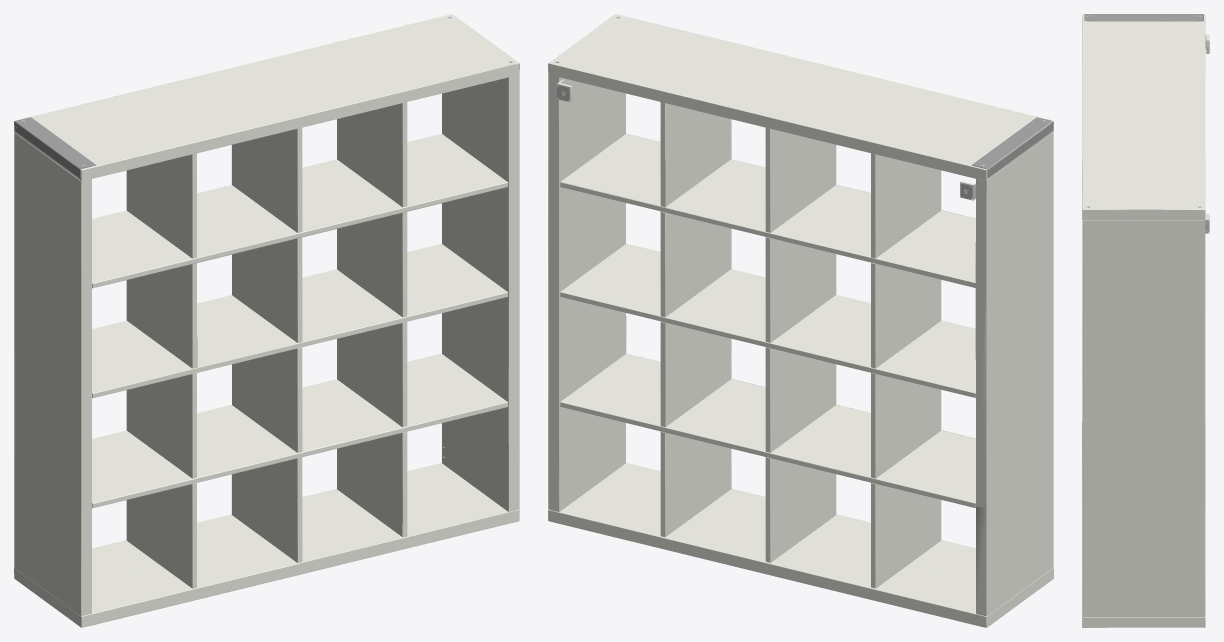
The model's file is KALLAX_20305745.glb.
3 views of the same model, side by side, from view 1: azimuth 30°, elevation 25°; view 2: azimuth 150°, elevation 25°; view 3: azimuth 270°, elevation 25° (orthographic). The views are drawn at different scales.
Visible parts, largest first — view 1: model; view 2: model; view 3: model.
Boxes of the visible parts, x1=… form: model: x1=14, y1=14, x2=519, y2=627; model: x1=548, y1=14, x2=1053, y2=627; model: x1=1082, y1=14, x2=1209, y2=627.
Size of the model in its own units: 1.47 by 1.47 by 0.4053.
Materials: 1 (1 with a texture image).
